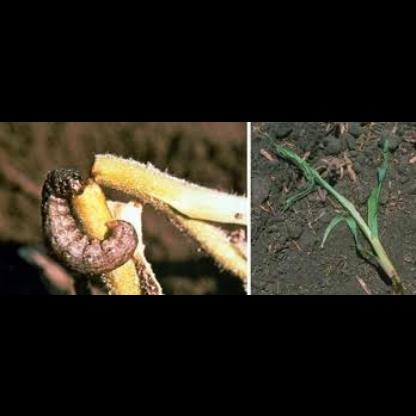oruga: (38, 162, 136, 278)
